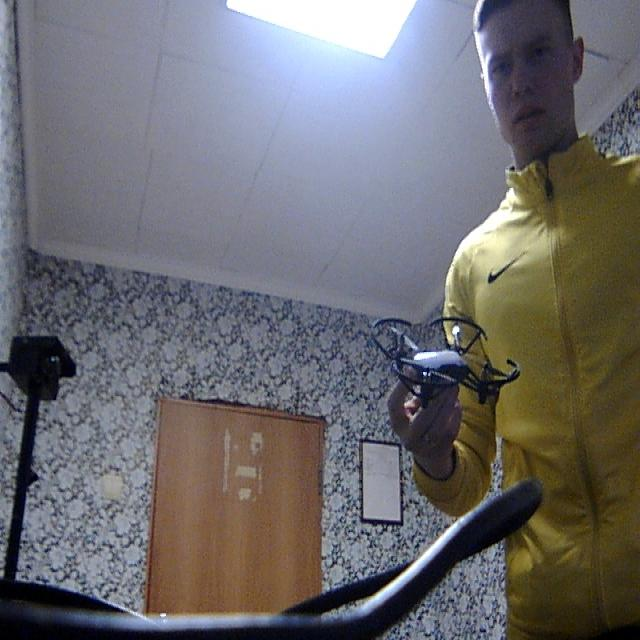drone: (357, 306, 522, 412)
